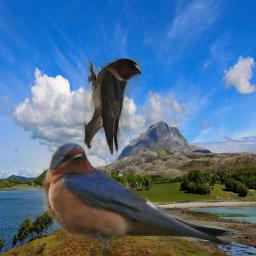Swallow: (42, 142, 256, 252), (82, 58, 141, 156)
